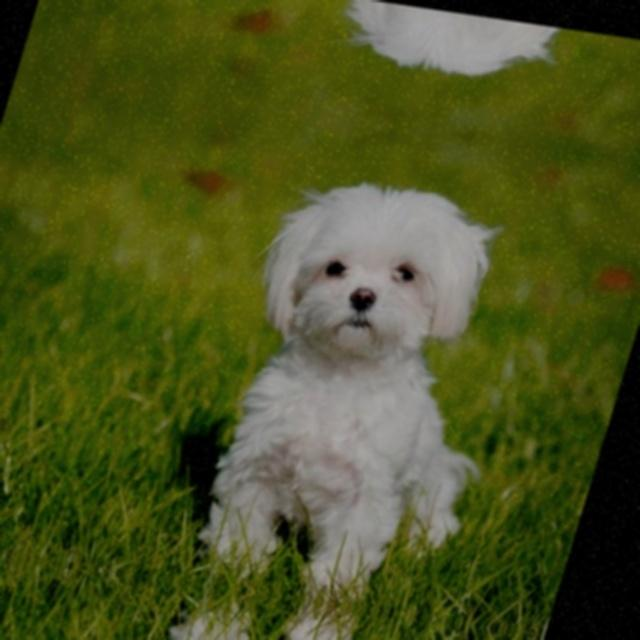dog: (201, 146, 549, 402), (290, 0, 596, 111)
